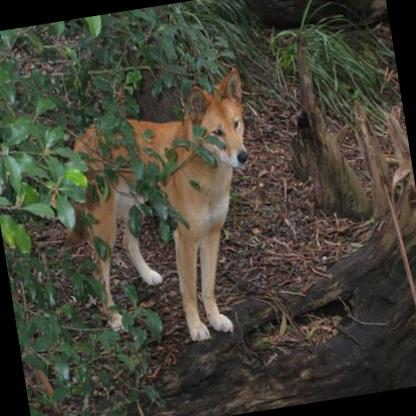dingo: (52, 64, 281, 358)
